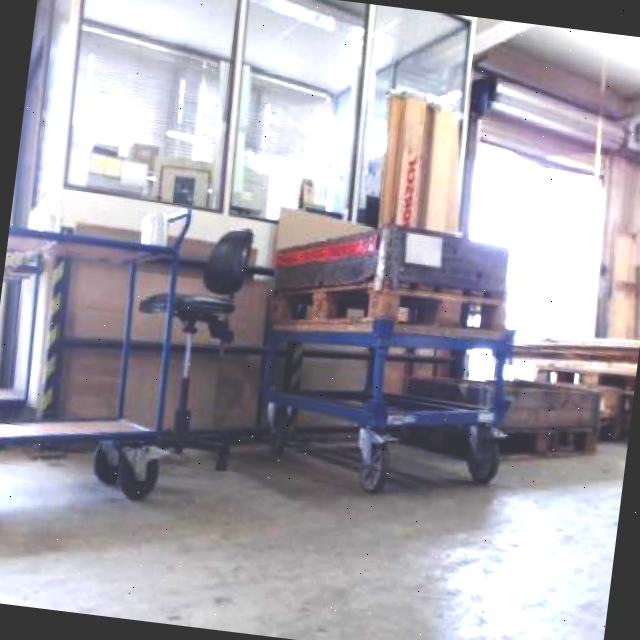ground: (0, 347, 630, 640)
pallet: (0, 180, 640, 600), (245, 205, 535, 507), (0, 206, 196, 534), (44, 215, 279, 462), (400, 362, 608, 464), (573, 146, 640, 438), (499, 317, 640, 443), (370, 86, 478, 236)
